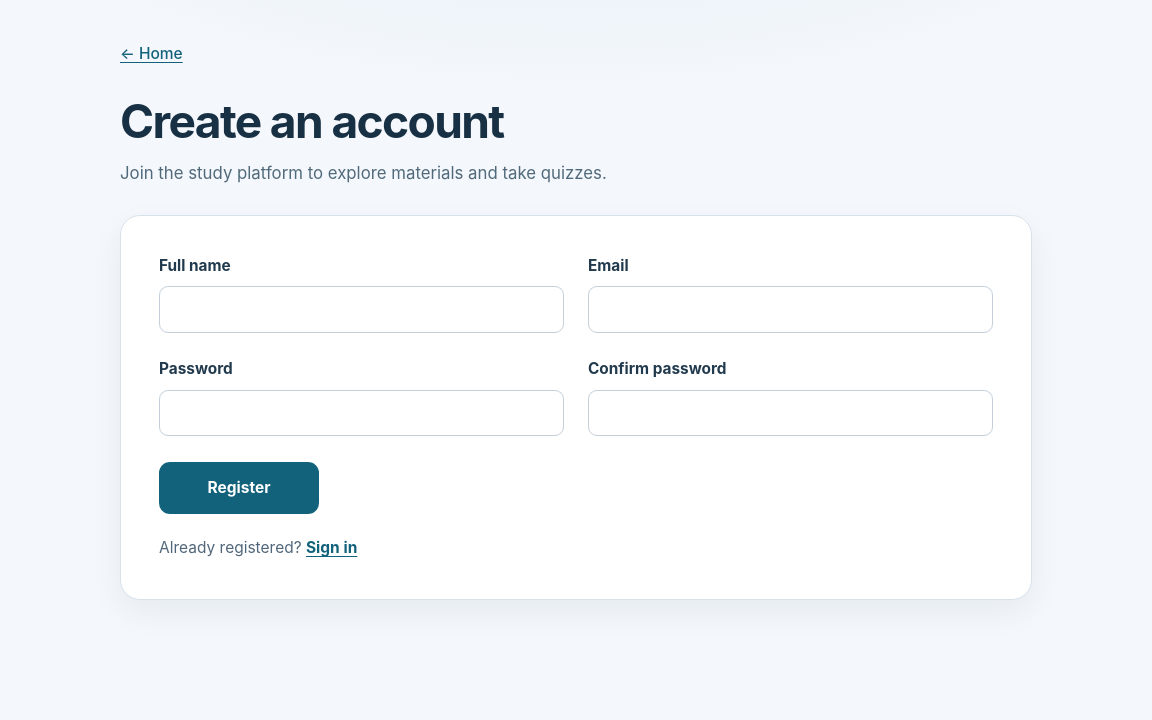
it: rejects weak password without network request
Type "Riya Sharma" into the field labelled "Full name" at [362, 310], box left=159, top=286, right=564, bottom=333
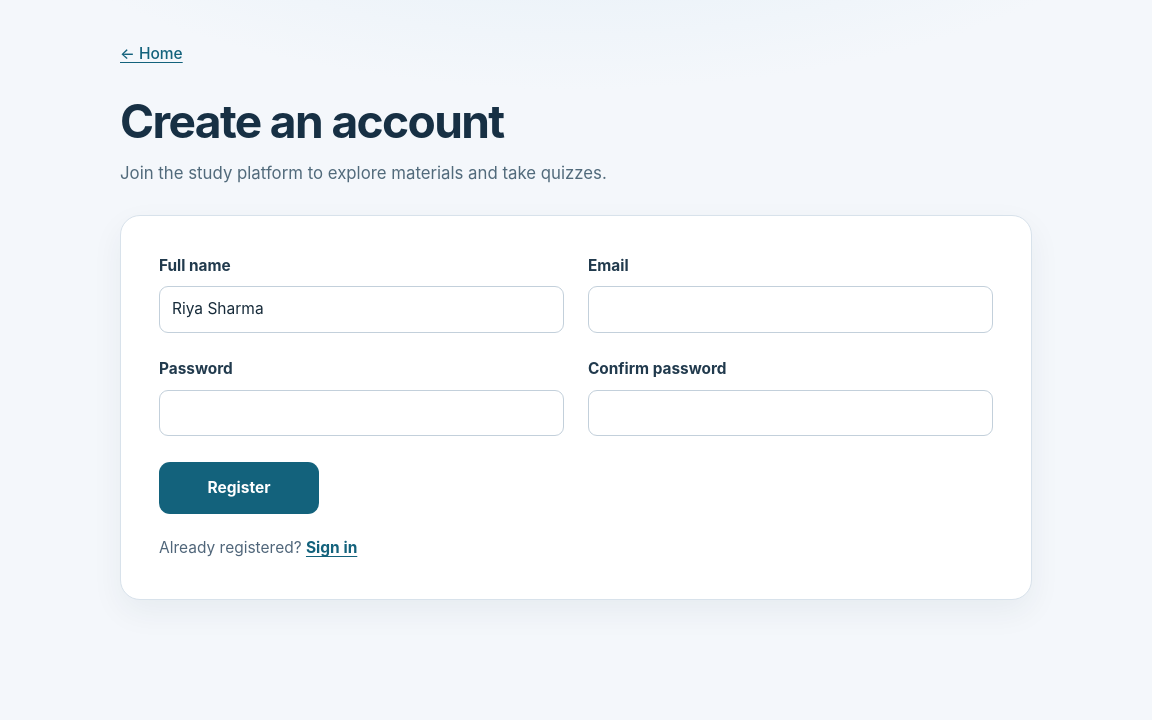
Type "riya@example.com" into the field labelled "Email" at [790, 310], box left=588, top=286, right=993, bottom=333
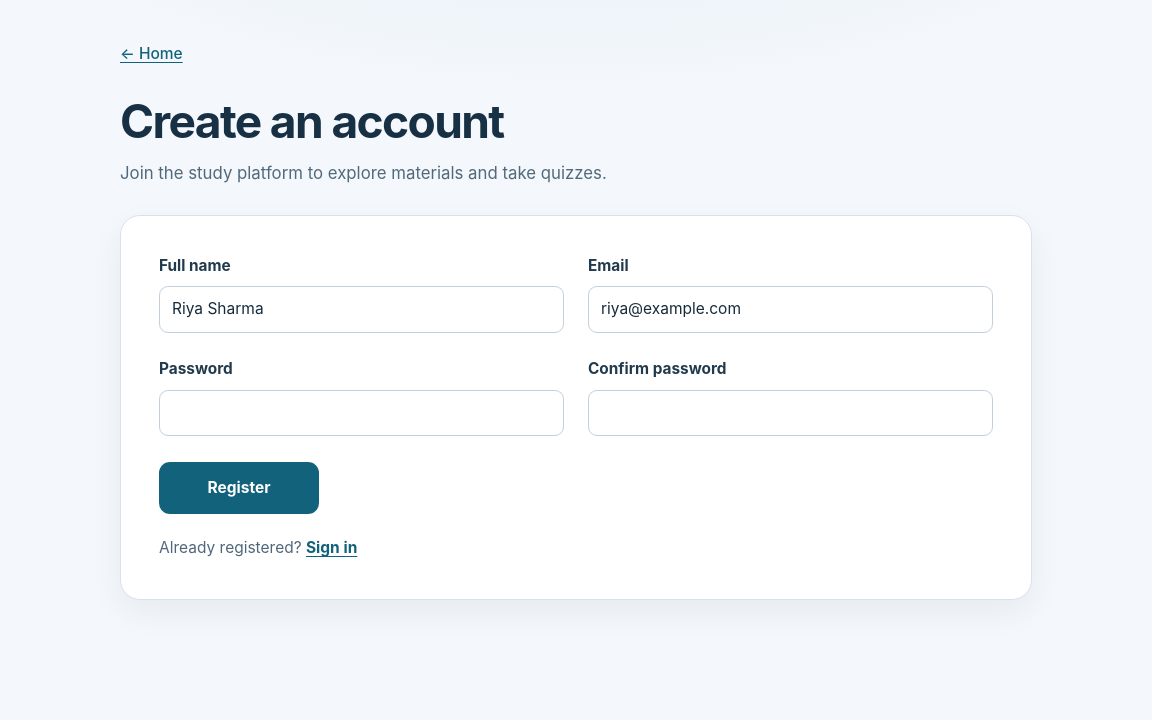
Type "weak" into the password field labelled "Password" at [362, 413], box left=159, top=390, right=564, bottom=436
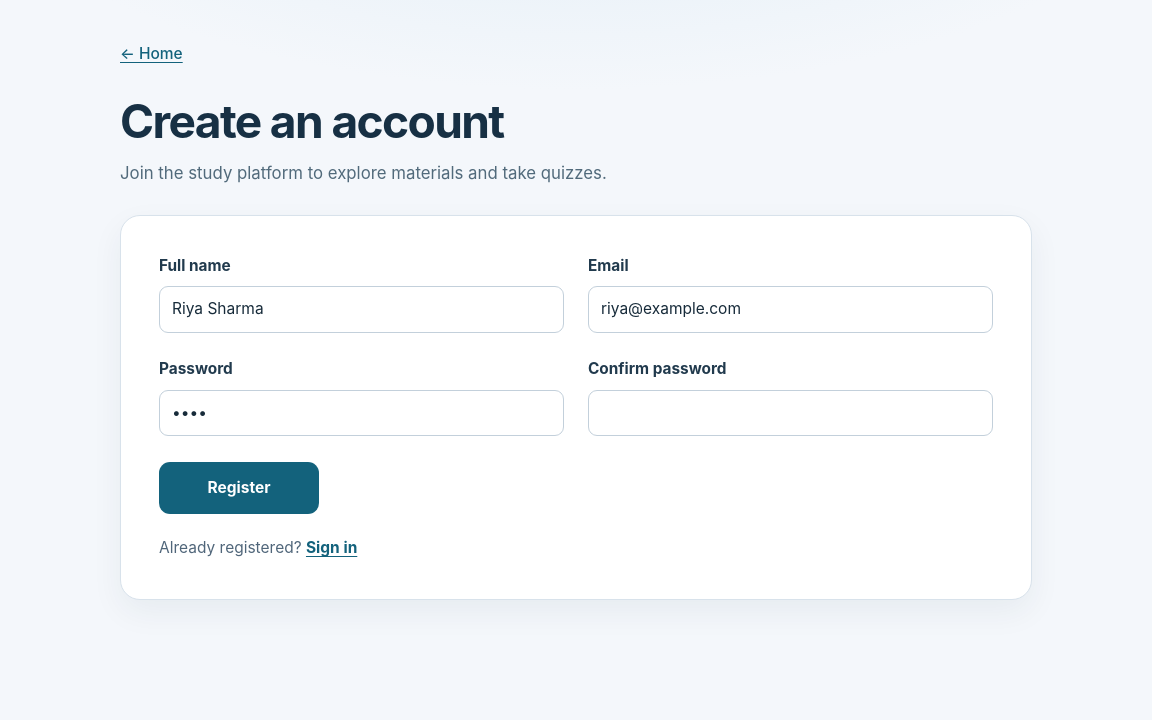
Type "weak" into the password field labelled "Confirm password" at [790, 413], box left=588, top=390, right=993, bottom=436
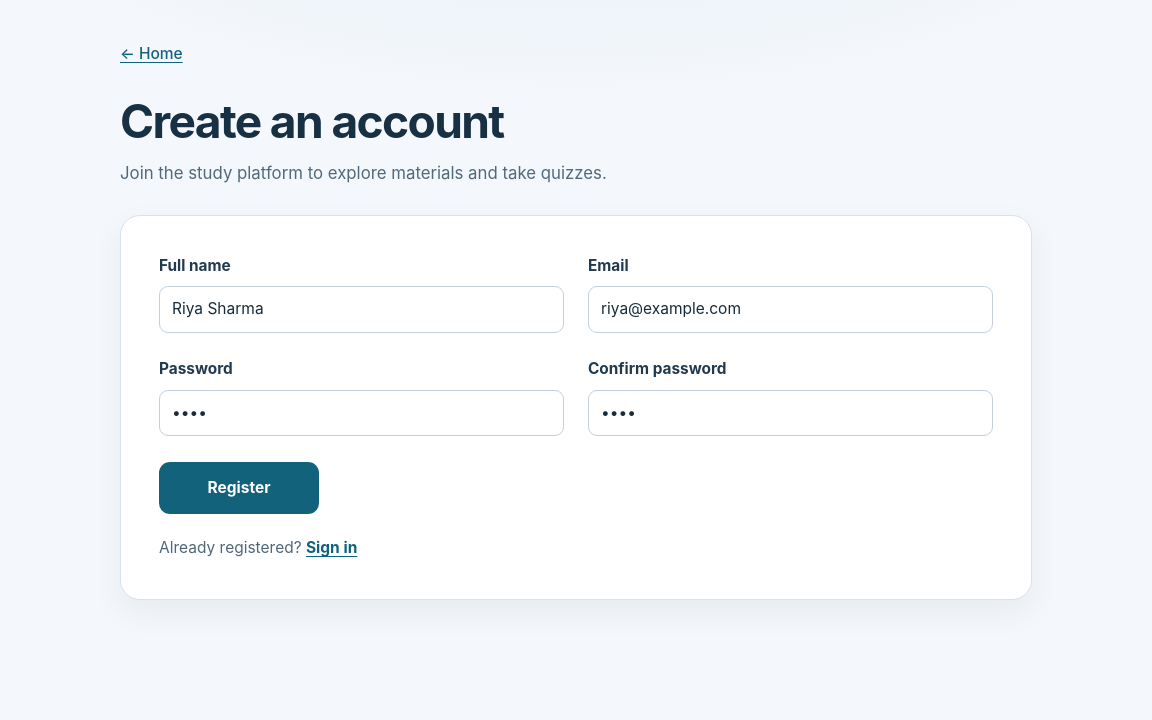
Click the button "Register" at [239, 488], box left=159, top=462, right=319, bottom=514
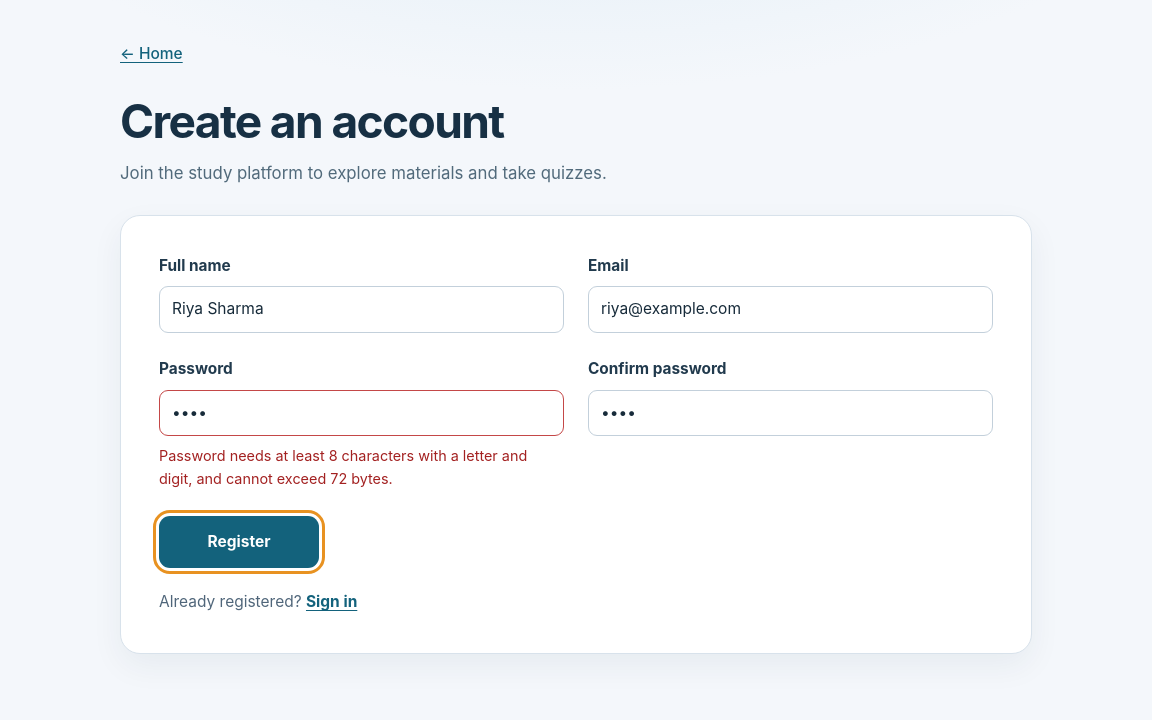
Result: the text "Password needs at least 8" is shown at left=159, top=447, right=527, bottom=487
